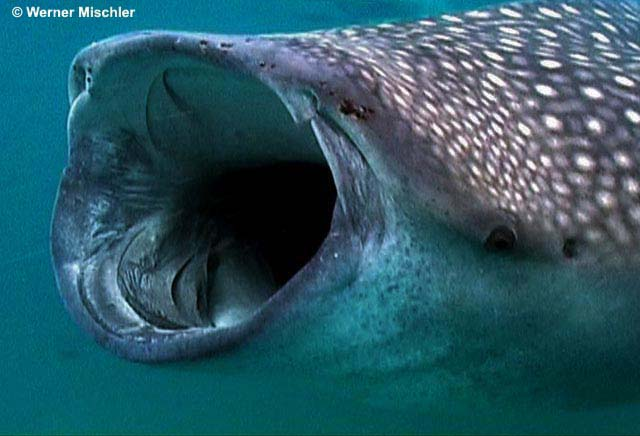Rhincodon_typusw: (50, 14, 640, 396)
